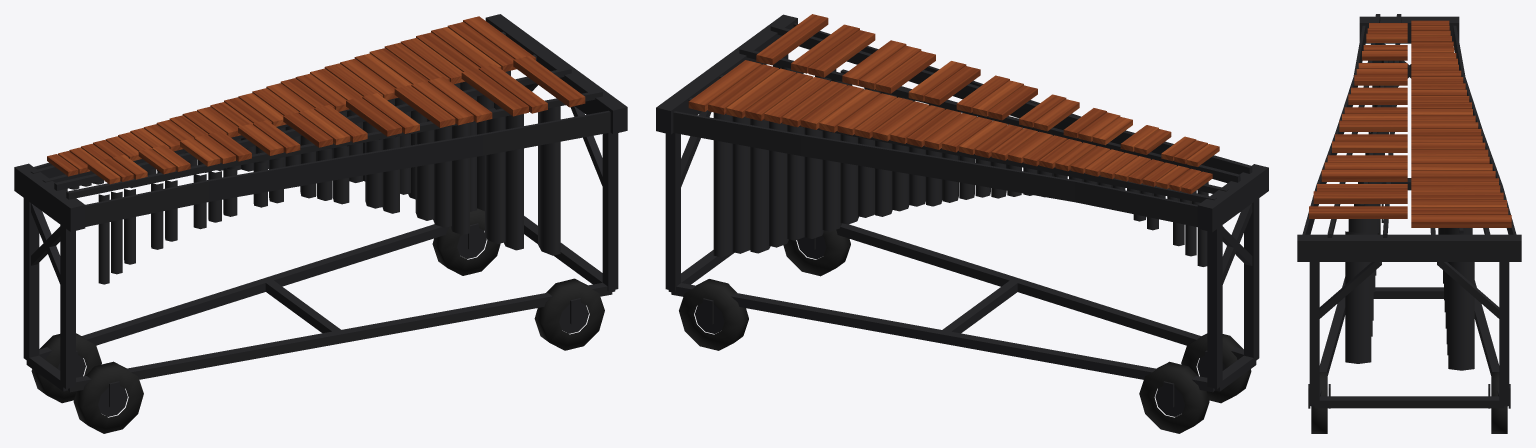
The model's file is marimba-4.3-synthetic-black-low.glb.
The picture shows the model from 3 angles, left to right: view 1: azimuth 30°, elevation 25°; view 2: azimuth 150°, elevation 25°; view 3: azimuth 270°, elevation 25°; orthographic projection. The views are drawn at different scales.
Parts seen in each view (by area): view 1: frame, bars-synthetic, resonators-black, artwork, rubber; view 2: frame, bars-synthetic, resonators-black, rubber; view 3: bars-synthetic, frame, resonators-black, rubber.
Part boxes in pixels (x1=…): frame: x1=14, y1=14, x2=627, y2=416; bars-synthetic: x1=47, y1=16, x2=585, y2=184; resonators-black: x1=64, y1=70, x2=560, y2=284; artwork: x1=85, y1=112, x2=610, y2=226; rubber: x1=31, y1=208, x2=604, y2=433; frame: x1=656, y1=14, x2=1268, y2=416; bars-synthetic: x1=688, y1=14, x2=1219, y2=193; resonators-black: x1=713, y1=66, x2=1208, y2=266; rubber: x1=679, y1=230, x2=1251, y2=433; bars-synthetic: x1=1309, y1=20, x2=1511, y2=227; frame: x1=1297, y1=14, x2=1521, y2=408; resonators-black: x1=1345, y1=60, x2=1474, y2=370; rubber: x1=1311, y1=204, x2=1507, y2=433.
Bounding box in the file's own units: 2.13 × 0.9759 × 0.8992.
5 materials, 1 textured.
